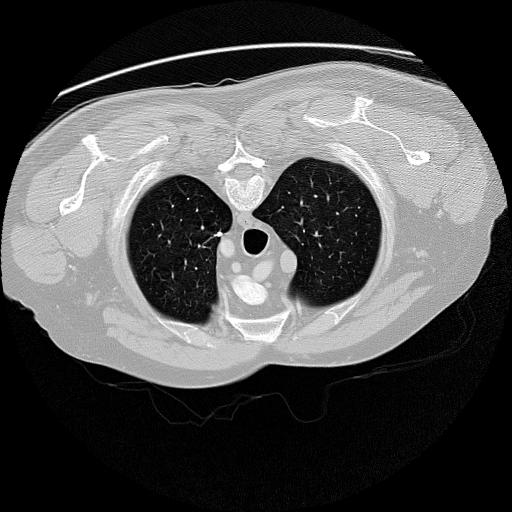nodule: (214, 228, 228, 242)
